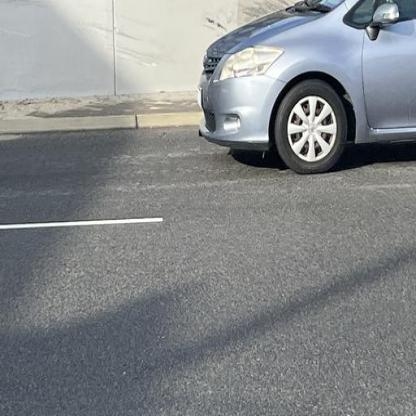Tire: (275, 79, 348, 174)
